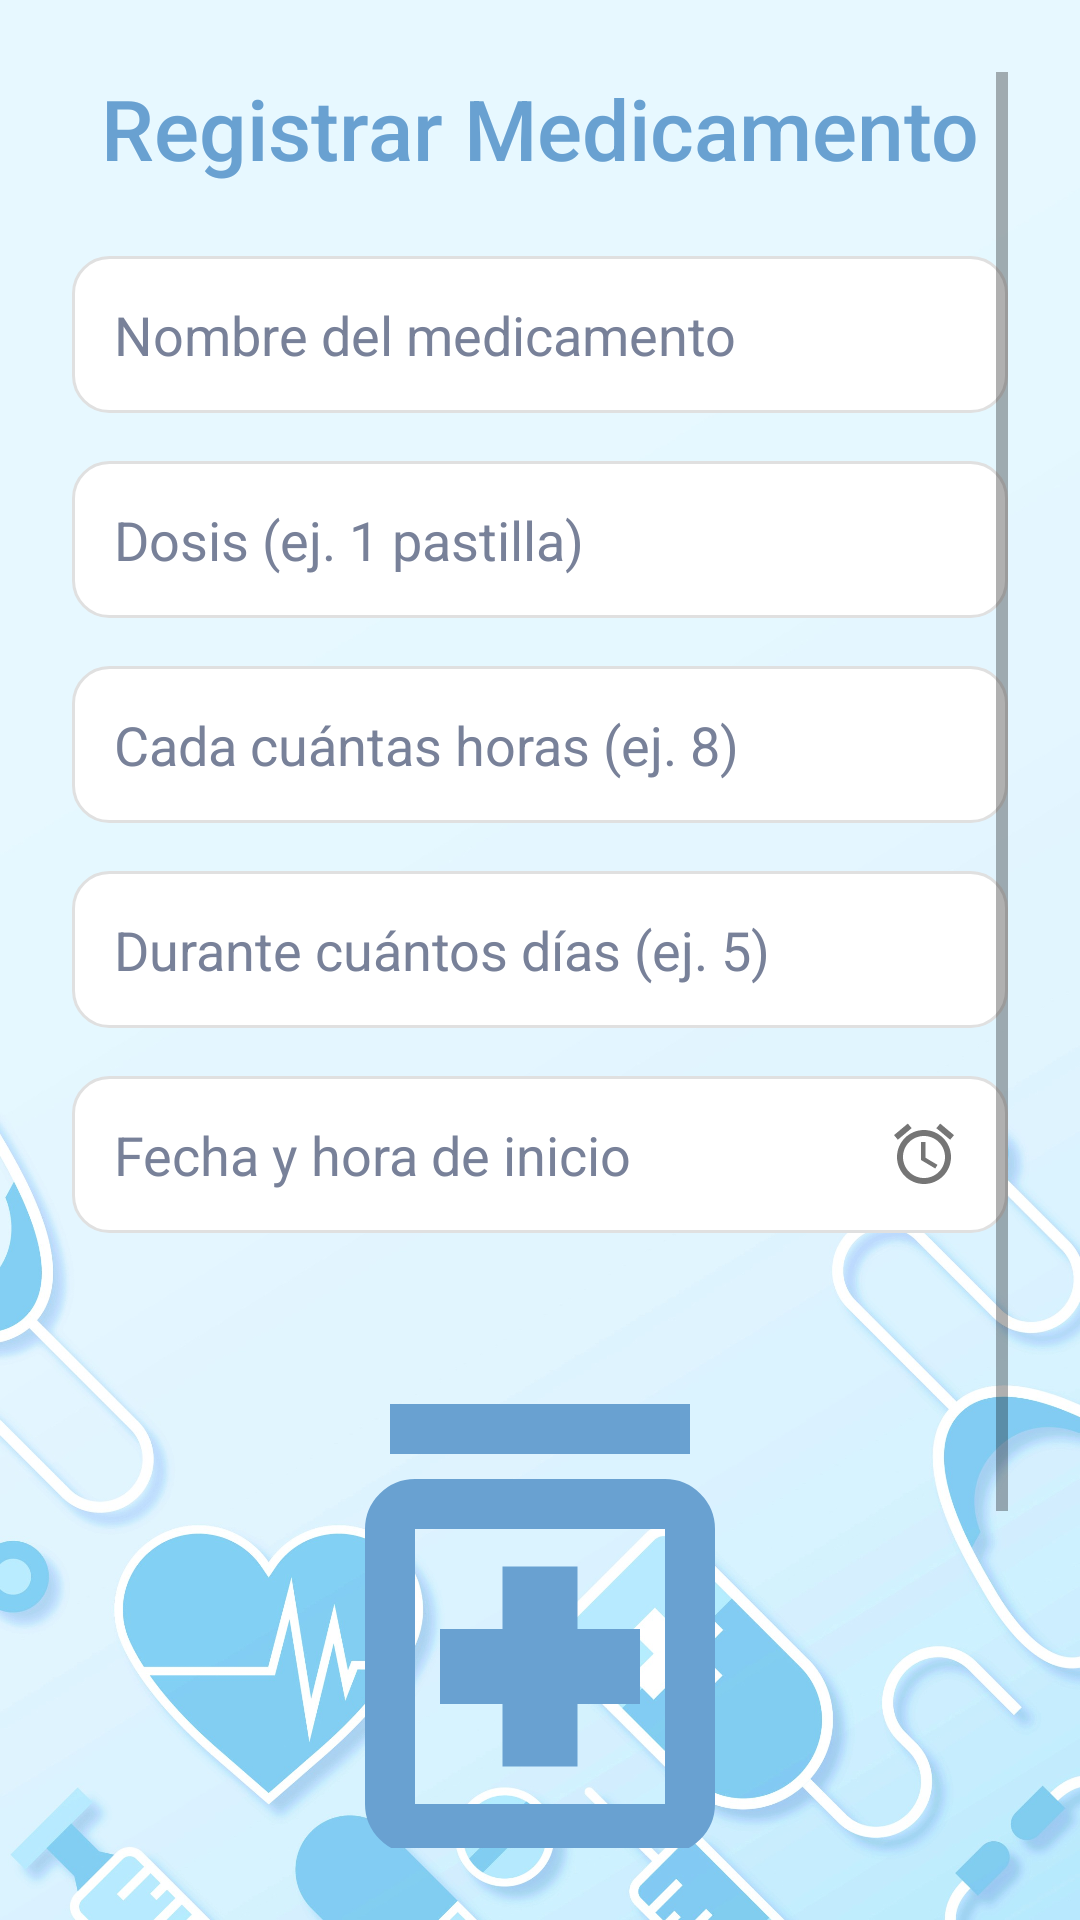

Where to tap for icons on this 1080 × 1920 app screen, as (x=x, y=y):
alarm: (x=924, y=1154)
